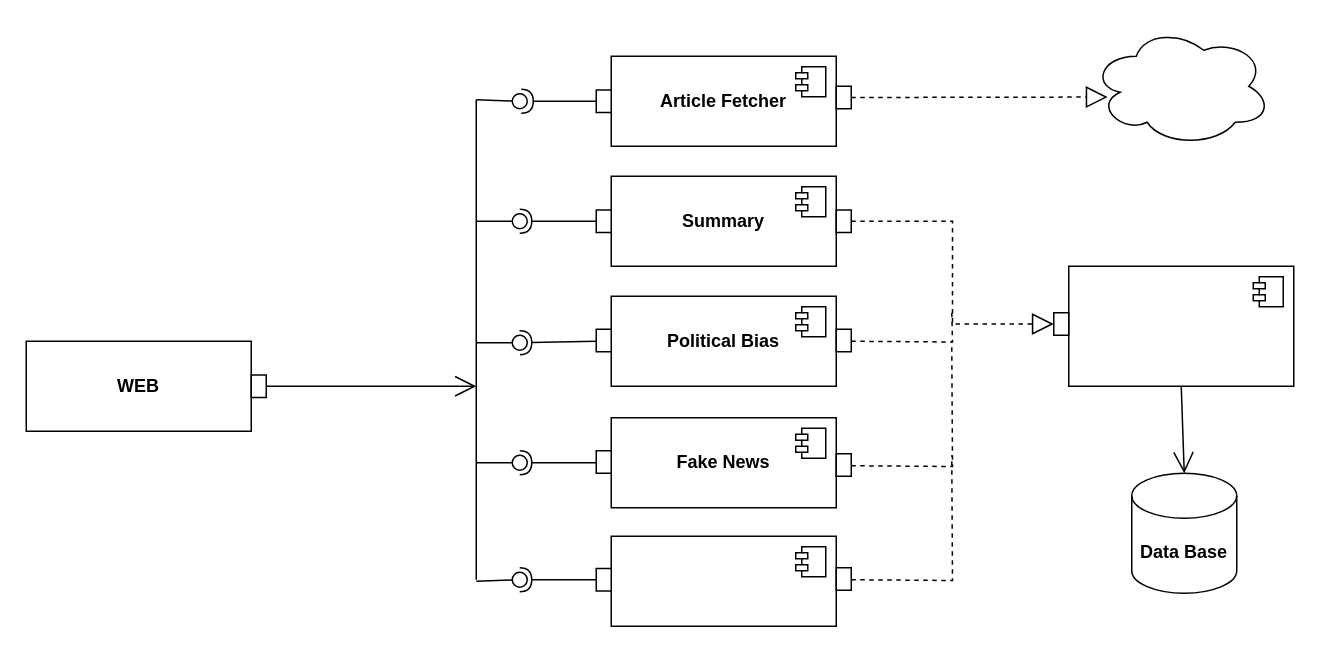
Some shapes in this 1320 by 653 pixel diagram are drawn without their labels. The centre of each missing label's shape, as x and y in pixels:
"Counter Argument" goes at point (723, 580).
"News Pulse Service Provider" goes at point (1180, 325).
"News Service Provider" goes at point (1180, 85).
